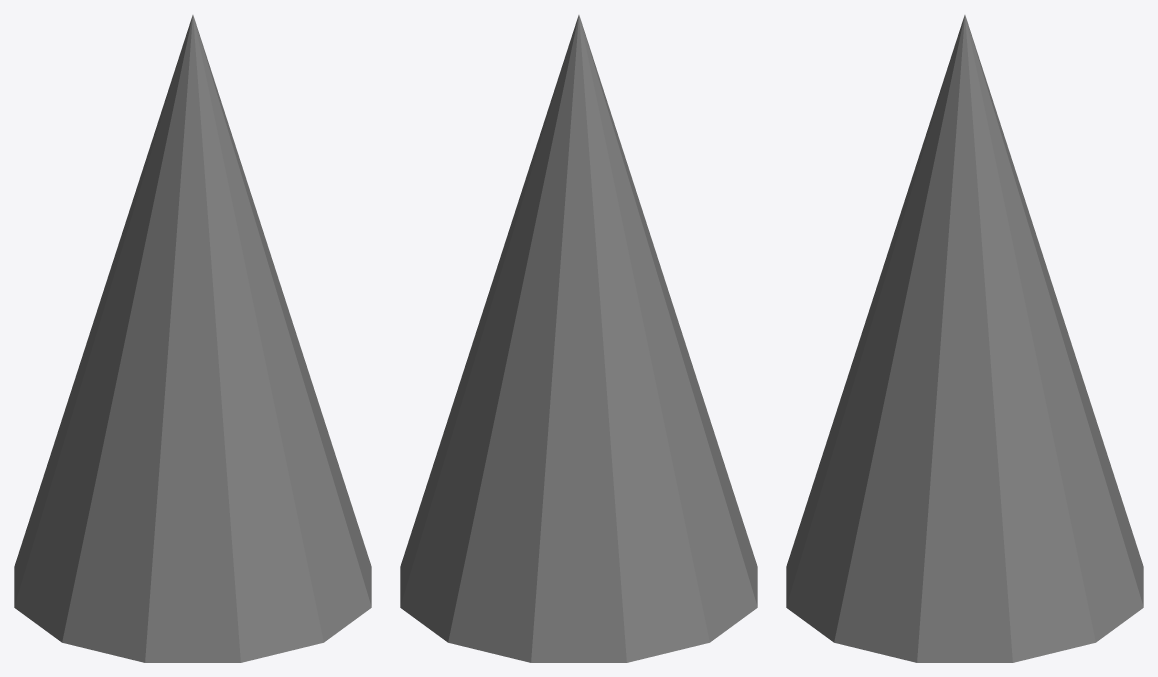
File: spike.fbx
3 views of the same model, side by side, from view 1: azimuth 30°, elevation 25°; view 2: azimuth 150°, elevation 25°; view 3: azimuth 270°, elevation 25° (orthographic).
Visible parts, largest first — view 1: cone; view 2: cone; view 3: cone.
Boxes of the visible parts, x1,y1,x2,y2 form: cone: (14,15,371,662); cone: (400,15,757,662); cone: (786,15,1143,662).
Bounding box in the file's own units: 81.25 × 144 × 81.25.
Materials: 1 (1 with a texture image).
